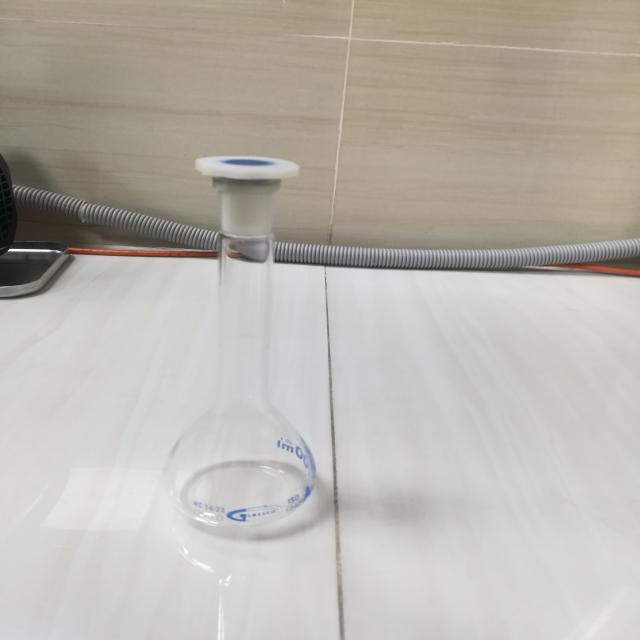Volumetric_Flask: (127, 112, 382, 570)
